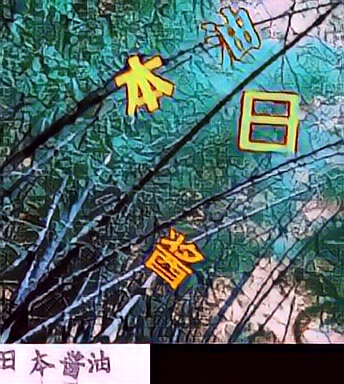B1BE: (113, 53, 177, 118)
BDB4: (141, 227, 205, 292)
C8D5: (238, 89, 302, 154)
D3CD: (198, 4, 262, 69)
